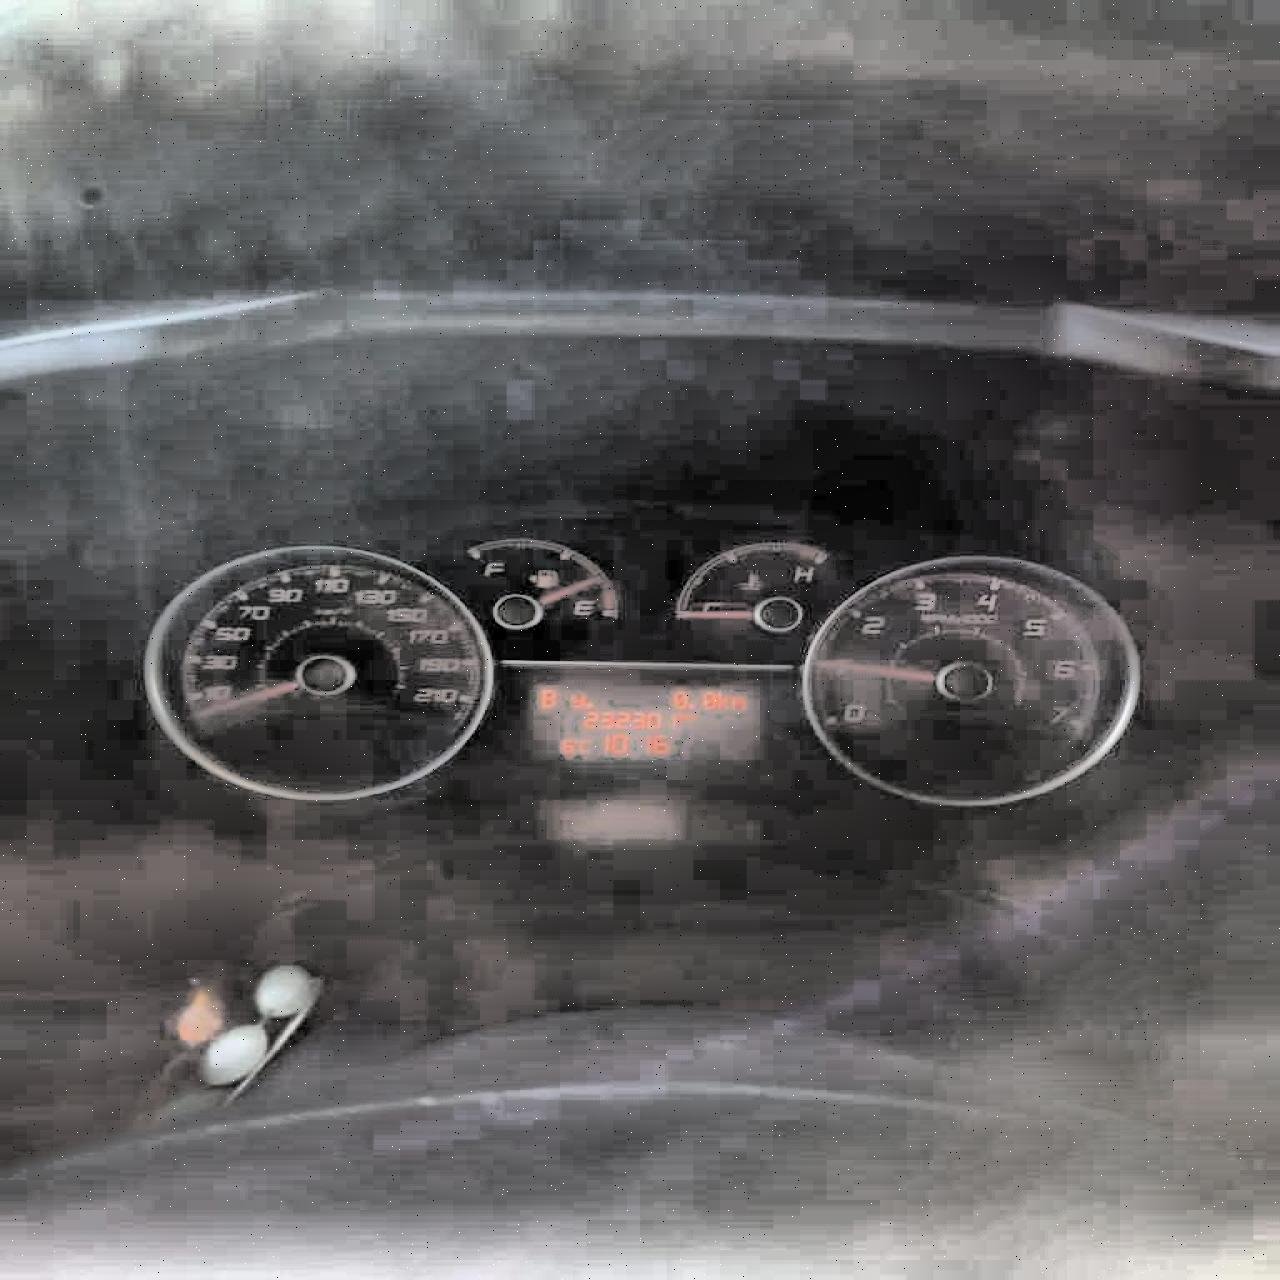-: (584, 699, 597, 709), (687, 700, 695, 713)
0: (610, 733, 628, 754), (645, 709, 662, 729), (700, 689, 715, 710), (672, 689, 687, 709)
1: (644, 733, 652, 757), (668, 713, 676, 729), (604, 733, 610, 754)
2: (581, 710, 597, 728), (614, 710, 628, 729)
3: (629, 710, 644, 729), (599, 710, 613, 728)
6: (652, 734, 668, 754), (560, 736, 572, 755)
X: (538, 688, 554, 708), (715, 689, 728, 710), (568, 692, 585, 707), (729, 694, 743, 710), (579, 737, 588, 754)
odometer: (520, 678, 765, 782)
